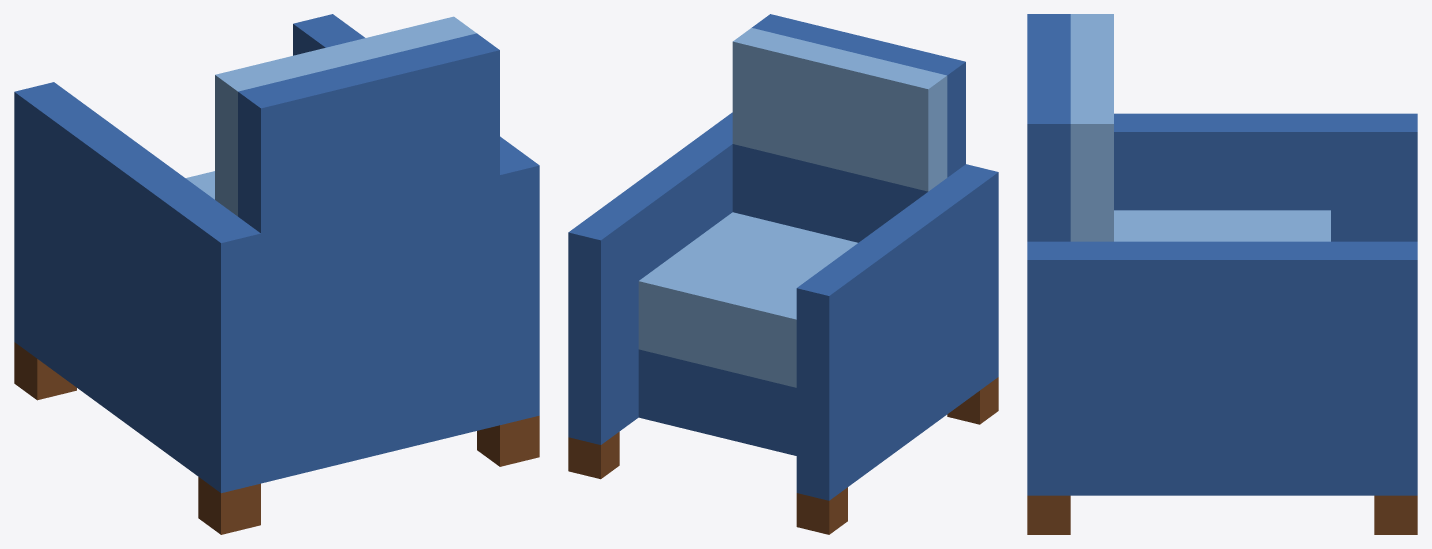
File: reading_chair.glb
The picture shows the model from 3 angles, left to right: view 1: azimuth 30°, elevation 25°; view 2: azimuth 150°, elevation 25°; view 3: azimuth 270°, elevation 25°; orthographic projection. The views are drawn at different scales.
Visible parts, largest first — view 1: chair; view 2: chair; view 3: chair.
Boxes of the visible parts, bbox=[...] form: chair: bbox=[14, 14, 539, 534]; chair: bbox=[568, 14, 998, 534]; chair: bbox=[1027, 14, 1417, 534].
Bounding box in the file's own units: 0.8 × 1 × 0.9.
